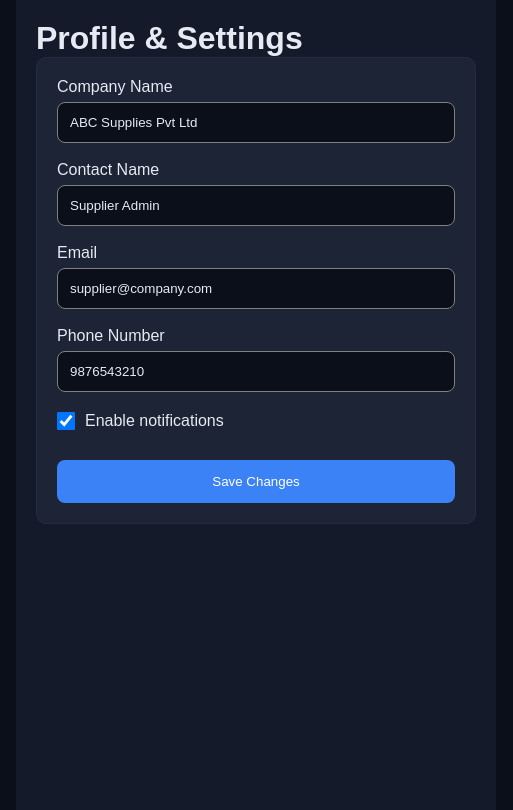
Test: Profile › shows validation errors for invalid required fields
Clear the field labelled "Company Name" at (256, 122), box [57,102,455,143]
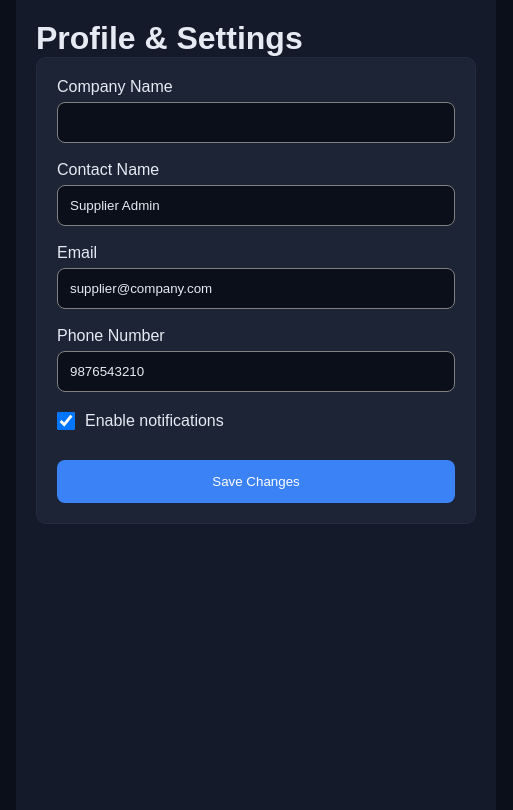
Replace the text in the field labelled "Contact Name" with "A" at (256, 206), box [57,185,455,226]
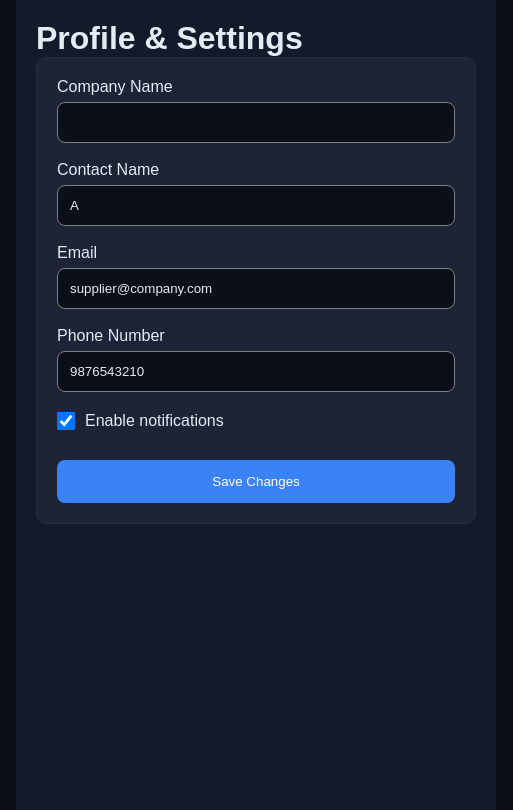
Replace the text in the field labelled "Email" with "invalid-email" at (256, 288), box [57,268,455,309]
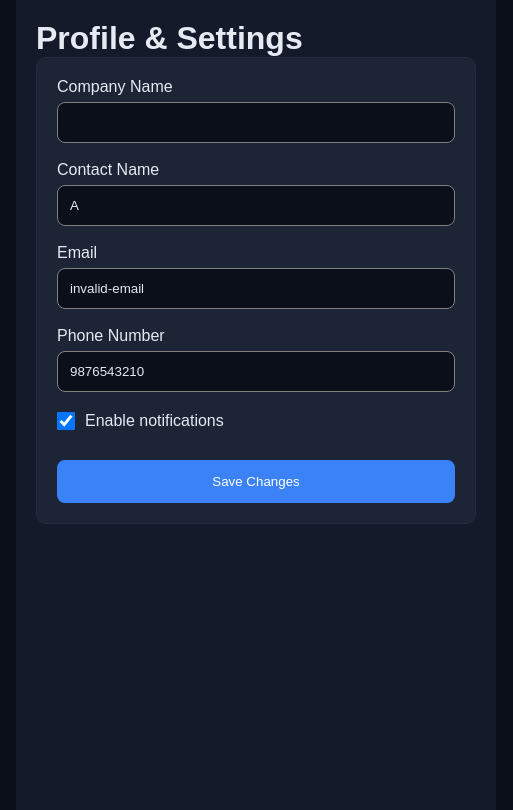
Replace the text in the field labelled "Phone Number" with "123" at (256, 372), box [57,351,455,392]
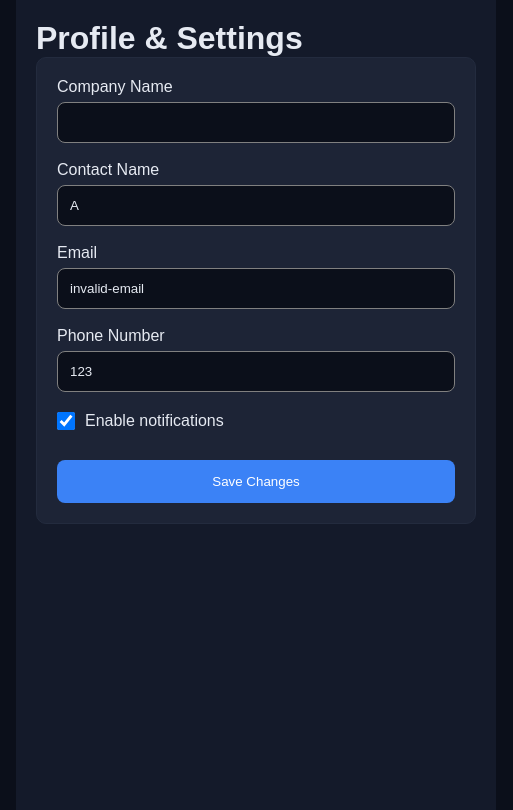
Click the button "Save Changes" at (256, 482), box [57,460,455,503]
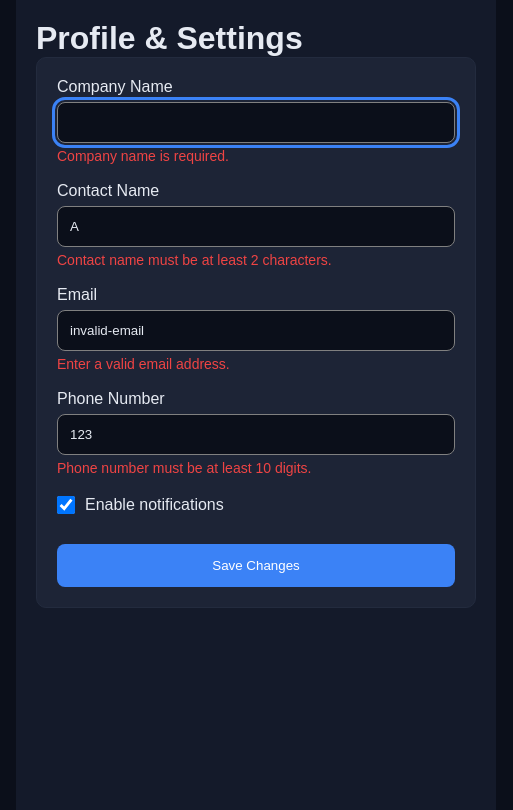
Result: the text "Company name is required." is shown at [57,148,229,164]
Result: the text "Contact name must be at least 2 characters." is shown at [57,252,332,268]
Result: the text "Enter a valid email address." is shown at [57,356,230,372]
